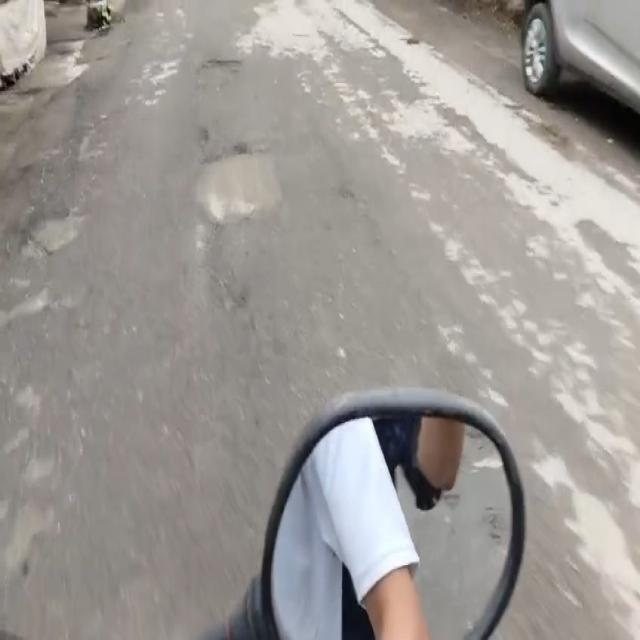road-pothole: (192, 144, 286, 237), (15, 204, 79, 264), (197, 57, 251, 97)
